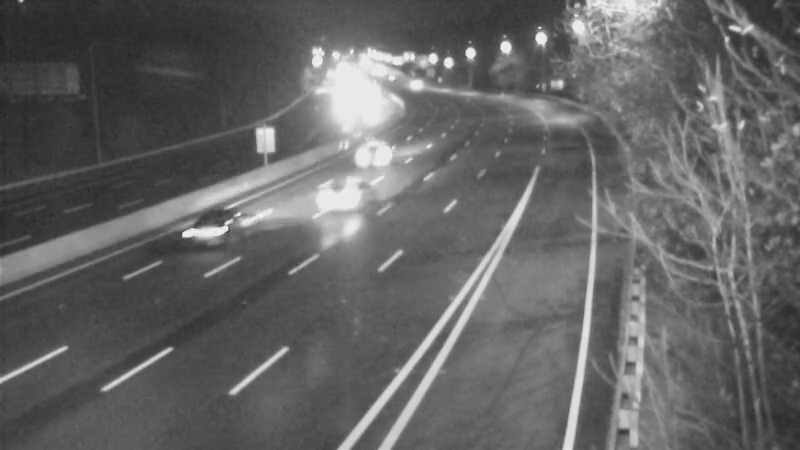vehicle: (339, 115, 419, 195), (300, 152, 380, 232), (163, 194, 243, 274), (390, 58, 440, 108)
